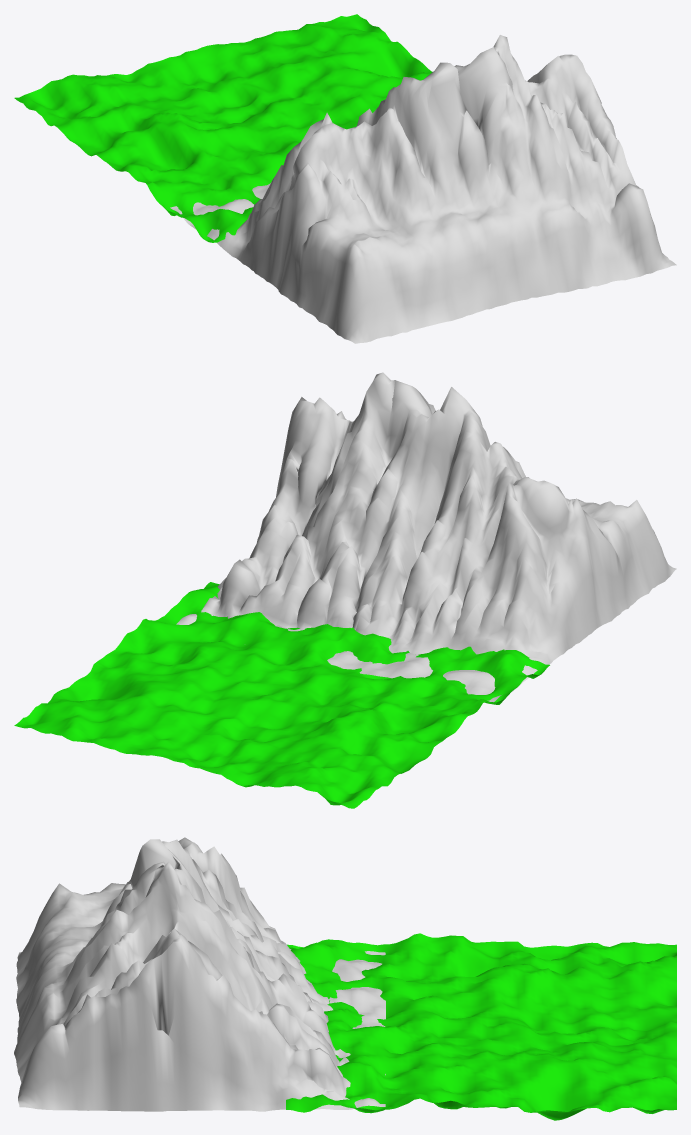
The model's file is mountains.glb.
3 views of the same model, one above another, from view 1: azimuth 30°, elevation 25°; view 2: azimuth 150°, elevation 25°; view 3: azimuth 270°, elevation 25° (orthographic).
Parts seen in each view (by area): view 1: Plane, Plane.001; view 2: Plane, Plane.001; view 3: Plane, Plane.001.
Part boxes in pixels (x1,y1,x2,y2): Plane: [170, 35, 676, 343]; Plane.001: [14, 14, 432, 242]; Plane: [176, 372, 676, 702]; Plane.001: [14, 582, 549, 808]; Plane: [14, 837, 385, 1111]; Plane.001: [286, 933, 676, 1120].
Bounding box in the file's own units: 175 × 105 × 297.
